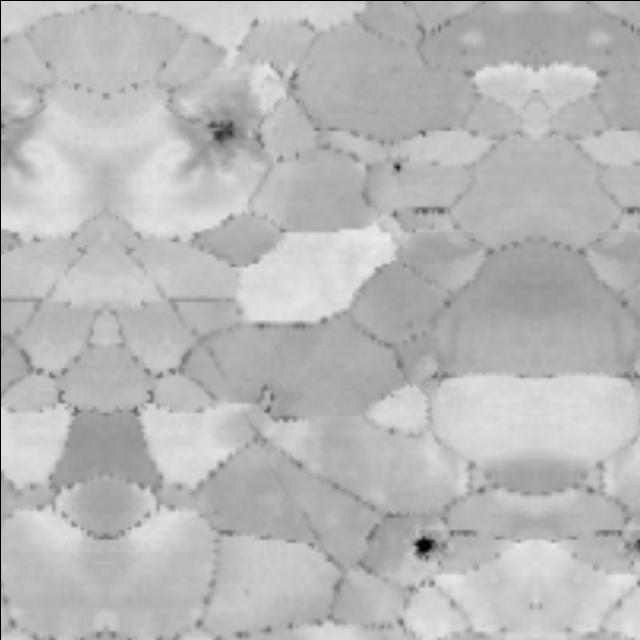good_void: (392, 528, 474, 567), (393, 191, 450, 221), (200, 114, 247, 146), (595, 529, 640, 562), (620, 192, 640, 219), (384, 157, 406, 173), (0, 115, 8, 146)
